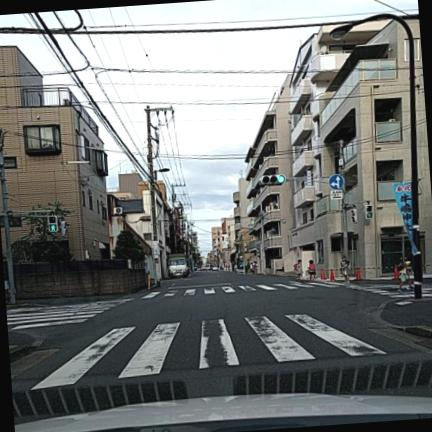Road: (7, 272, 431, 412)
